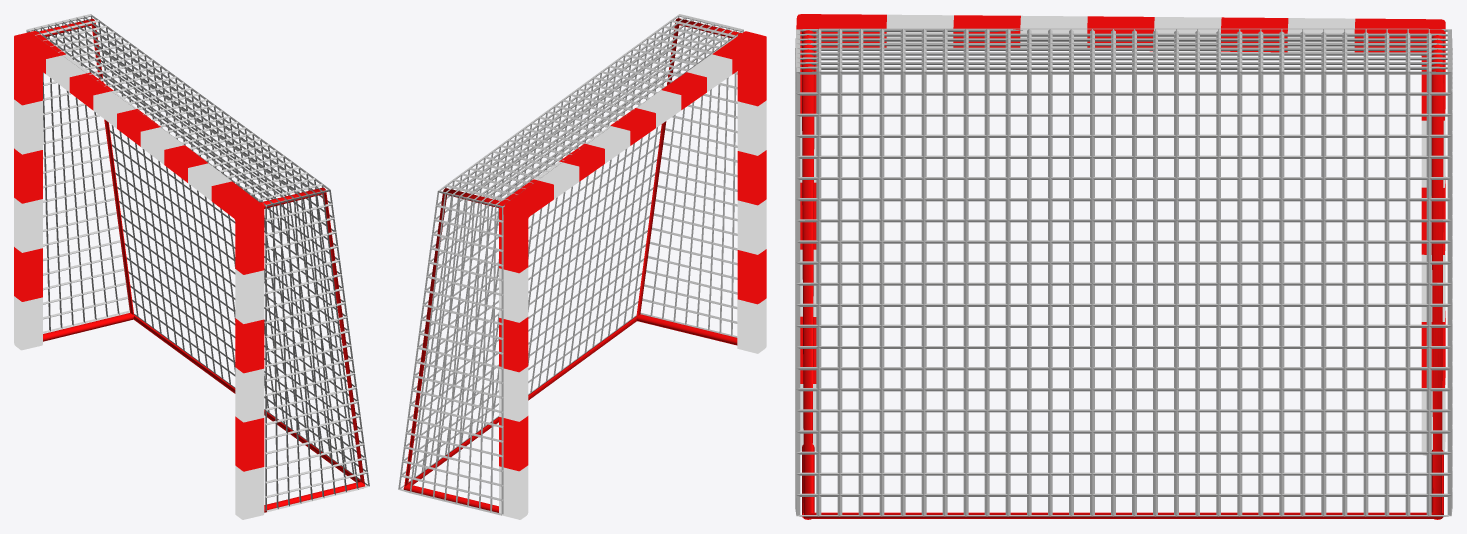
Rendered from porteria.glb.
3 renders of one model, left to right at view 1: azimuth 30°, elevation 25°; view 2: azimuth 150°, elevation 25°; view 3: azimuth 270°, elevation 25°, orthographic. The views are drawn at different scales.
Parts seen in each view (by area): view 1: Cube.004_2, Cube.003_3, Cube.001_5; view 2: Cube.004_2, Cube.003_3, Cube.001_5; view 3: Cube.004_2, Cube.003_3, Cube.001_5.
Boxes of the visible parts, x1,y1,x2,y2 form: Cube.004_2: [26, 14, 369, 512]; Cube.003_3: [14, 31, 264, 519]; Cube.001_5: [37, 18, 365, 512]; Cube.004_2: [398, 14, 743, 515]; Cube.003_3: [499, 31, 766, 519]; Cube.001_5: [403, 18, 741, 512]; Cube.004_2: [795, 28, 1452, 516]; Cube.003_3: [796, 14, 1445, 455]; Cube.001_5: [802, 28, 1443, 519].
Bounding box in the file's own units: 0.92 × 2.16 × 3.04.
